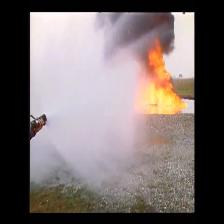fire: (138, 50, 182, 115)
smoke: (97, 13, 175, 47)
